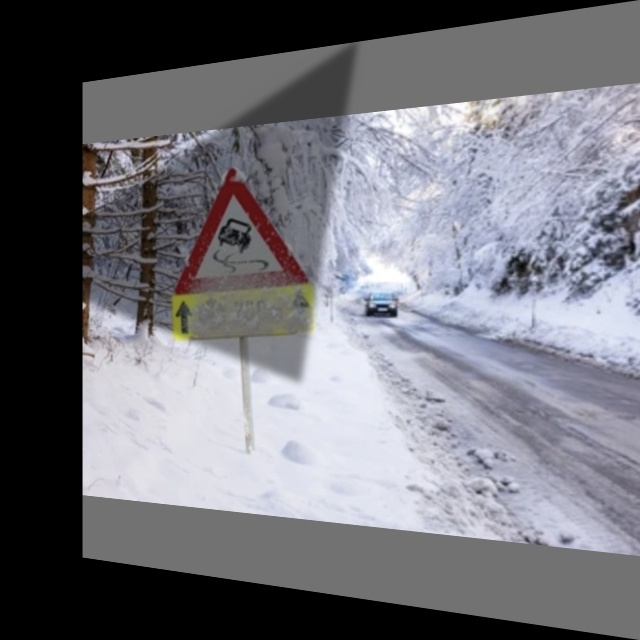Slippery_Road: (176, 156, 300, 304)
